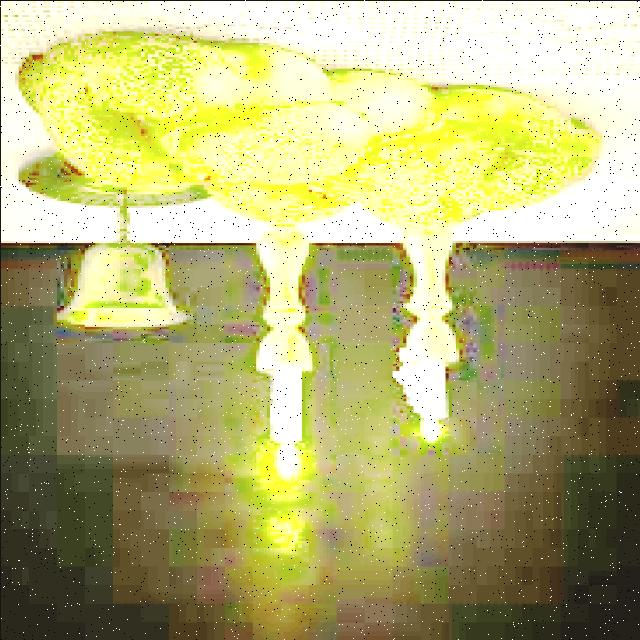api: (257, 436, 313, 478), (403, 411, 452, 448)
